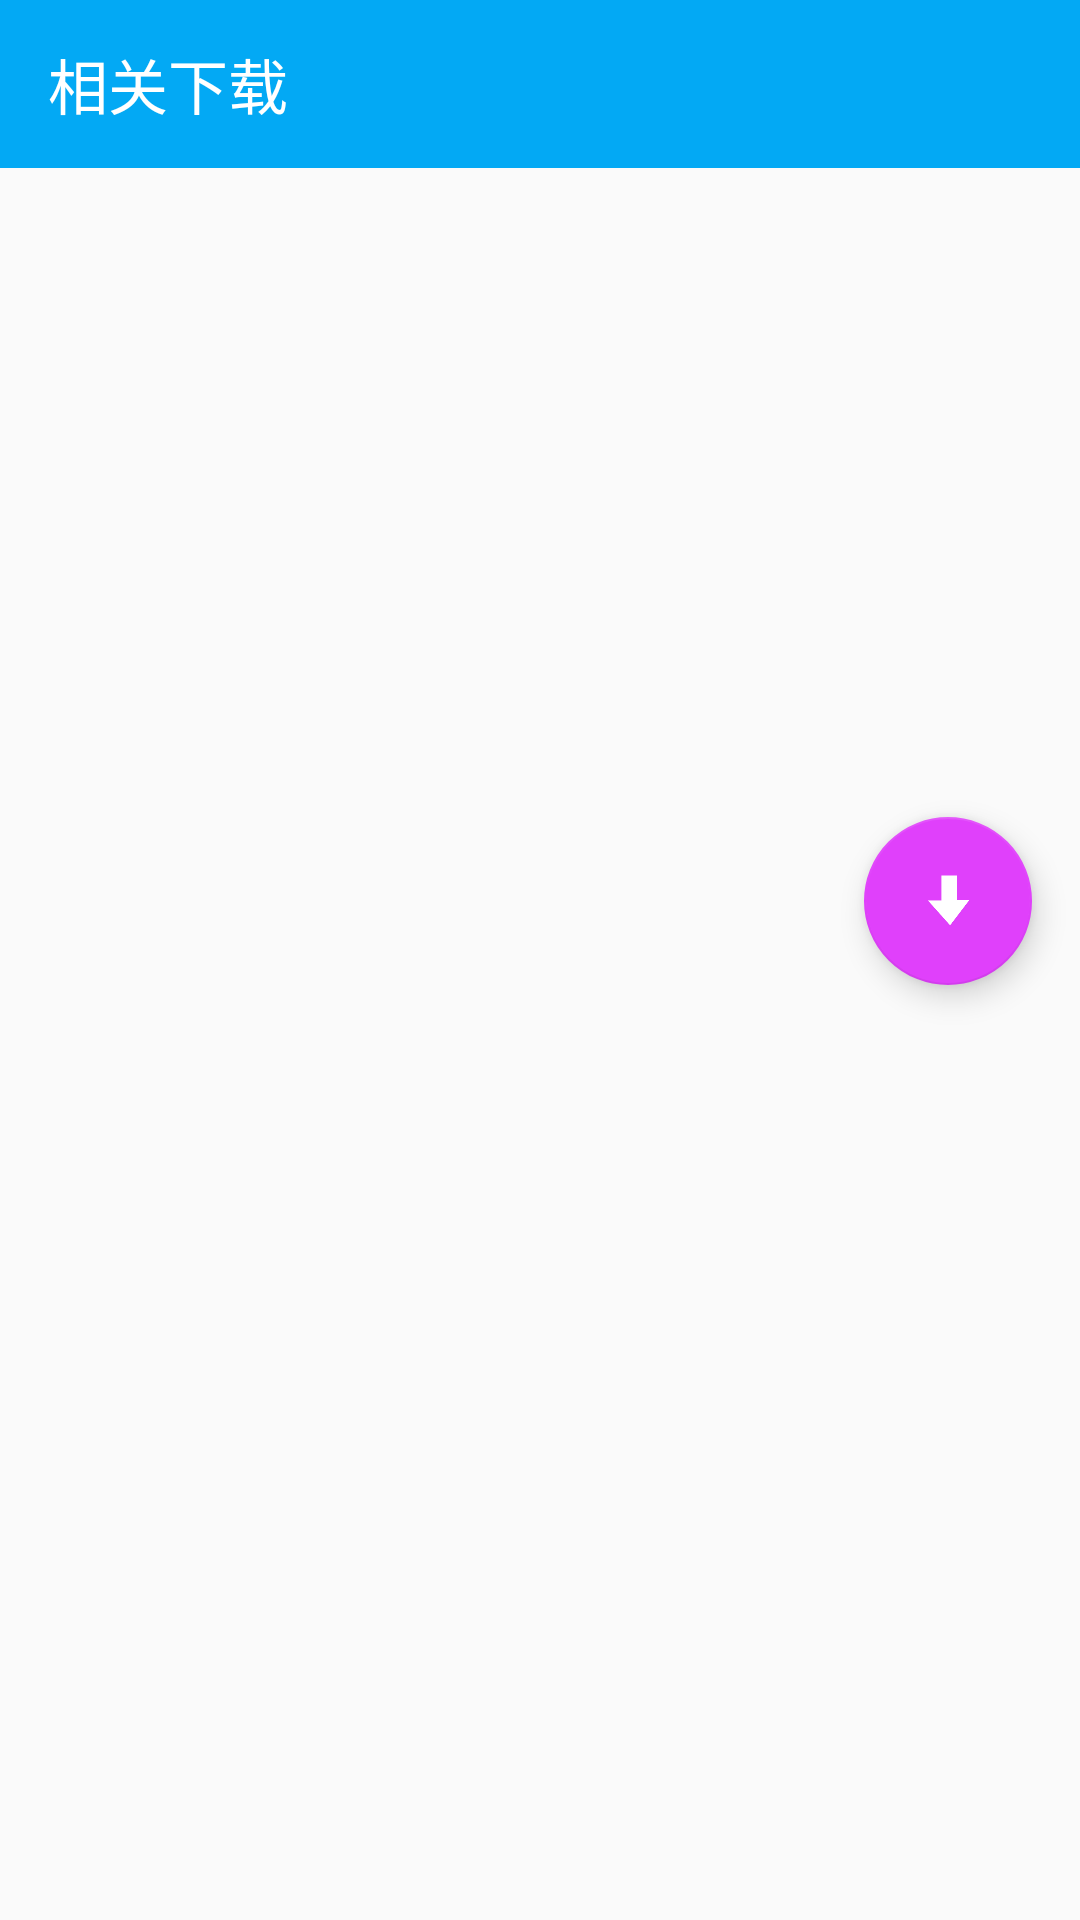

Point at icon controls on the screen. Image size 1080px×1920px, points as (x,y).
downloadicon: (948,901)
